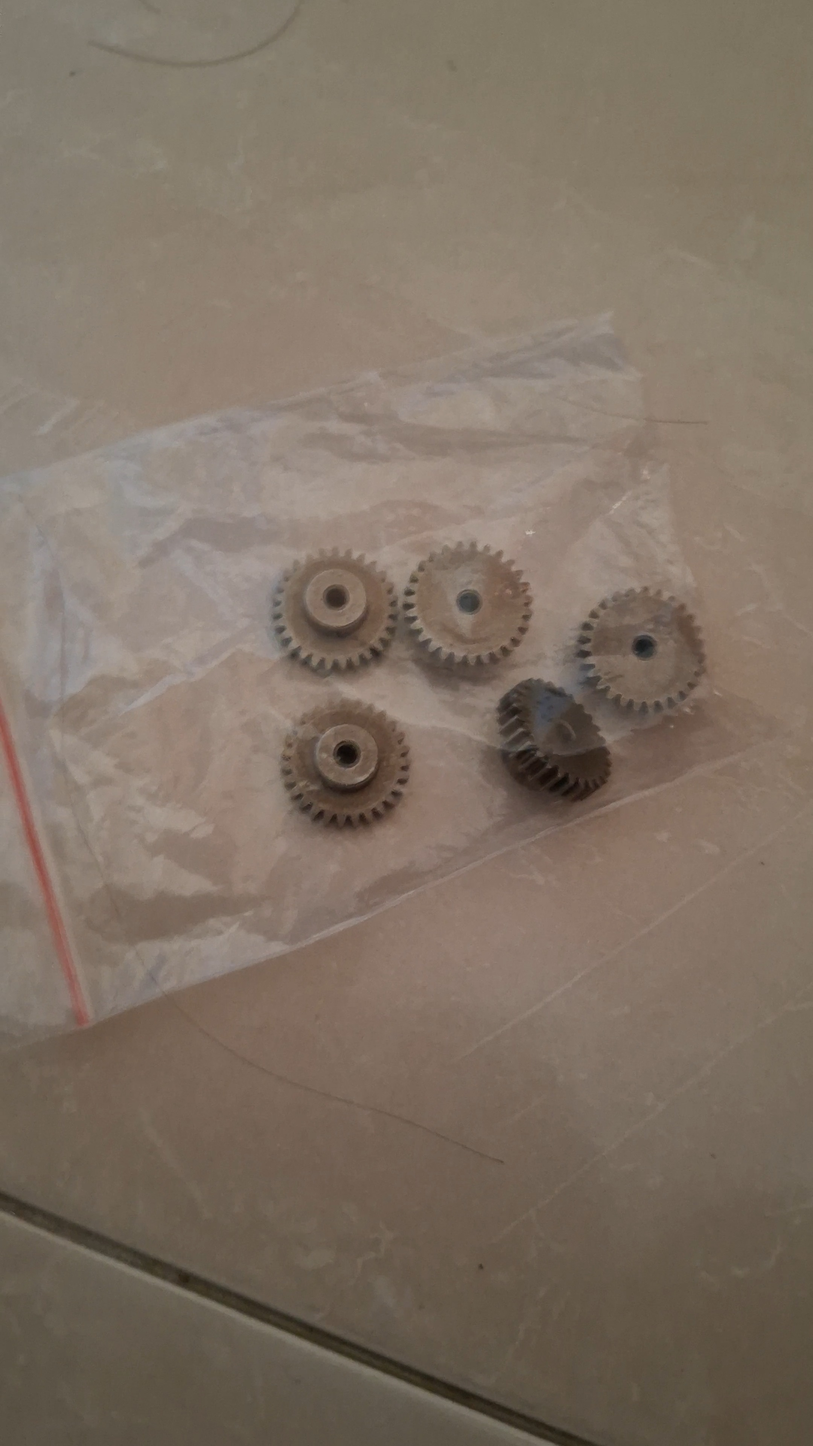spur gear: (578, 588, 705, 714), (281, 700, 409, 825), (403, 543, 531, 665), (272, 549, 397, 671), (498, 679, 611, 801)
